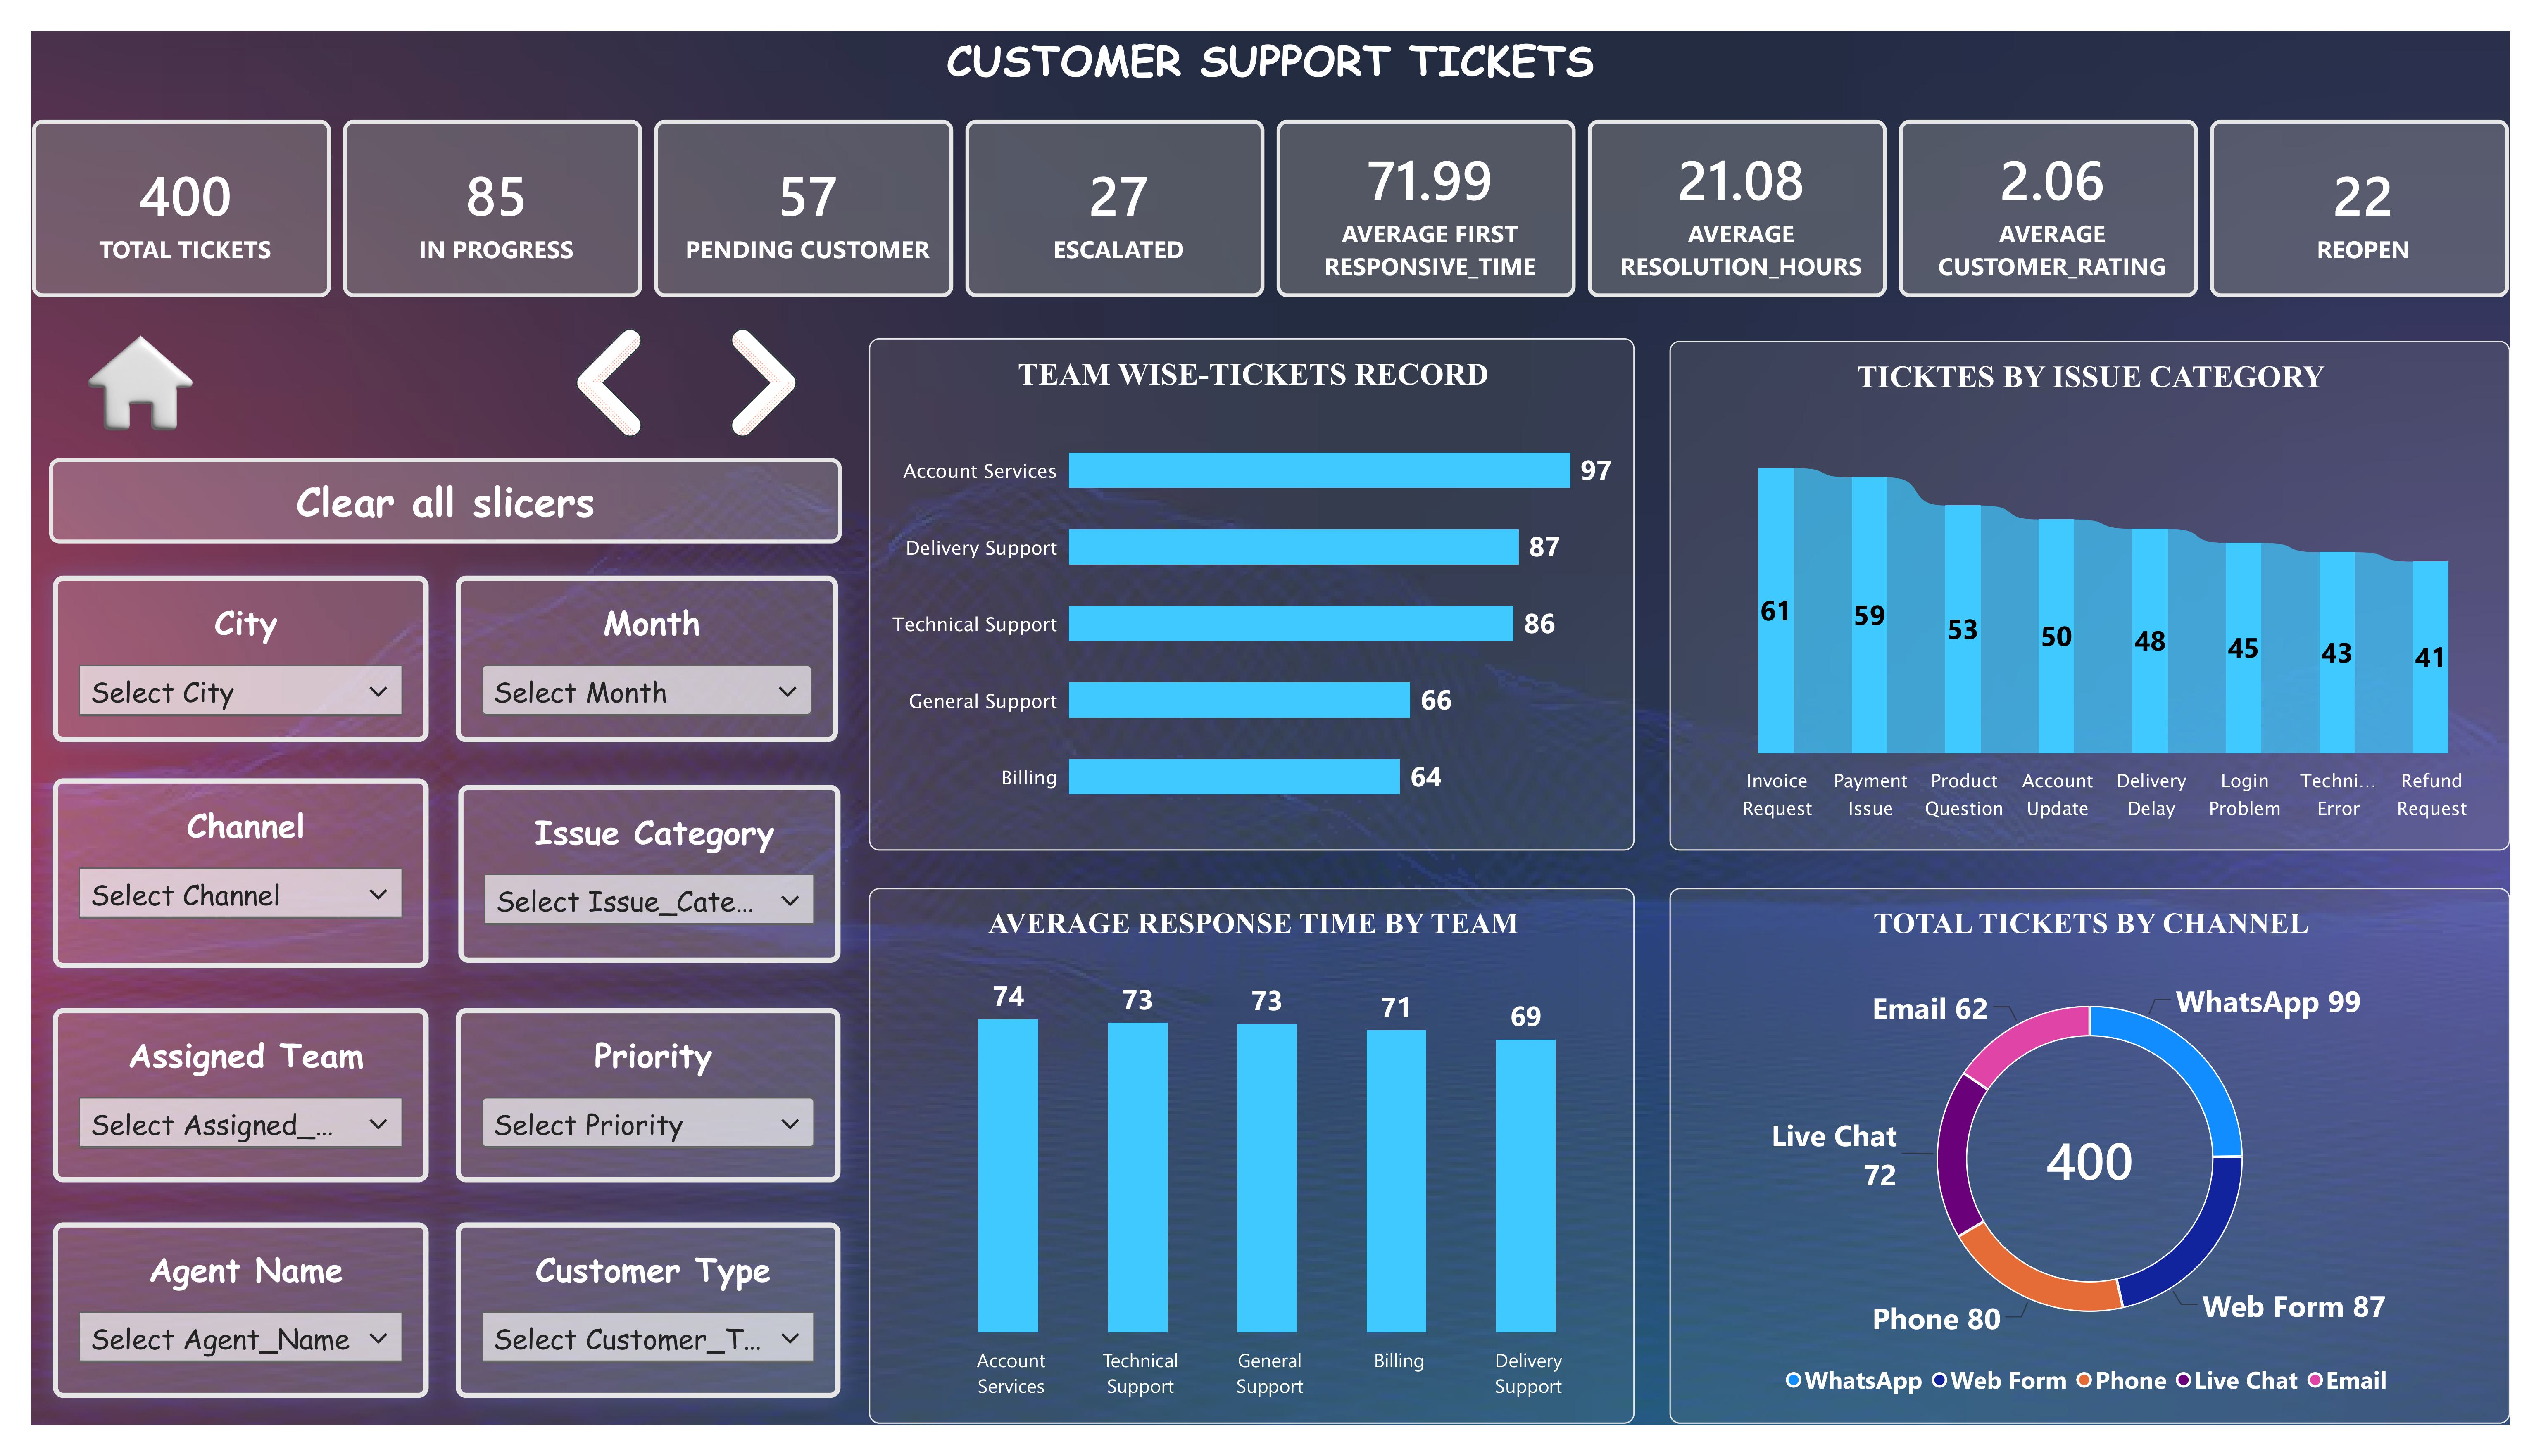

The page's visual inventory and layout, read from the dashboard file:
{"tool":"powerbi","page":{"name":"Page 1","canvas":[1920,1080],"ordinal":0},"visuals":[{"type":"cardVisual","fields":{"Data":["_MEASURE.TOTAL_TICKETS","_MEASURE.IN_PROGRESS","_MEASURE.PENDING_CUSTOMER","_MEASURE.ESCALATED","_MEASURE.AVERAGE_RESOLUTION","_MEASURE.AVERAGE_RESOLUTION_HOURS","_MEASURE.AVERAGE_CUSTOMER_RATING","_MEASURE.RESPONSED"]},"box":[0,67.9,1920.4,140],"z":0},{"type":"clusteredBarChart","title":"TEAM WISE-TICKETS RECORD","fields":{"Category":["Customer_Support_Tickets.Assigned_Team"],"Y":["_MEASURE.TOTAL_TICKETS"]},"box":[649.1,237.7,593.3,396.9],"z":1000},{"type":"ribbonChart","title":"TICKTES BY ISSUE CATEGORY","fields":{"Category":["Customer_Support_Tickets.Issue_Category"],"Y":["_MEASURE.TOTAL_TICKETS"]},"box":[1269.3,239.8,650.4,395.2],"z":2000},{"type":"clusteredColumnChart","title":"AVERAGE RESPONSE TIME BY TEAM","fields":{"Category":["Customer_Support_Tickets.Assigned_Team"],"Y":["_MEASURE.AVERAGE_FIRST_RESPONSIVE_TIME"]},"box":[649.1,663.6,593.3,415.5],"z":3000},{"type":"donutChart","title":"TOTAL TICKETS BY CHANNEL","fields":{"Category":["Customer_Support_Tickets.Channel"],"Y":["_MEASURE.TOTAL_TICKETS"]},"box":[1269.3,663.6,650.4,415.8],"z":4000},{"type":"listSlicer","fields":{"Values":["Customer_Support_Tickets.City"]},"box":[16.5,421.7,291.5,128.7],"z":5000,"group":"g1"},{"type":"textbox","box":[0,610,683,150],"z":5000},{"type":"listSlicer","fields":{"Values":["Customer_Support_Tickets.Channel"]},"box":[16.5,578.5,291.5,147.5],"z":6000,"group":"g1"},{"type":"textbox","box":[0,610,683,150],"z":6000},{"type":"textbox","box":[0,0,1920.4,68.2],"z":7000},{"type":"listSlicer","title":"Assigned Team","fields":{"Values":["Customer_Support_Tickets.Assigned_Team"]},"box":[16.5,756.4,291.5,135.8],"z":7000,"group":"g1"},{"type":"actionButton","box":[14.4,331.4,613.4,65.9],"z":8000},{"type":"listSlicer","title":"Issue Category","fields":{"Values":["Customer_Support_Tickets.Issue_Category"]},"box":[330.7,583.2,295.6,138.1],"z":8000,"group":"g1"},{"type":"group","id":"g1","title":"Group 1","box":[16.5,421.7,609.8,636.7],"z":9000},{"type":"listSlicer","title":"Month","fields":{"Values":["Customer_Support_Tickets.Created_Date.Variation.Date Hierarchy.Month"]},"box":[328.6,421.7,295.6,128.7],"z":9000,"group":"g1"},{"type":"image","box":[16.5,226.4,137.3,92.6],"z":10000,"group":"g2"},{"type":"listSlicer","title":"Priority","fields":{"Values":["Customer_Support_Tickets.Priority"]},"box":[328.6,756.4,297.7,135.8],"z":10000,"group":"g1"},{"type":"image","box":[507.7,226.4,120.1,92.6],"z":11000,"group":"g2"},{"type":"listSlicer","title":"Agent Name","fields":{"Values":["Customer_Support_Tickets.Agent_Name"]},"box":[16.5,922.6,291.5,135.8],"z":11000,"group":"g1"},{"type":"textbox","box":[0,760,649,320],"z":12000},{"type":"listSlicer","title":"Customer Type","fields":{"Values":["Customer_Support_Tickets.Customer_Type"]},"box":[328.6,922.6,297.7,135.8],"z":12000,"group":"g1"},{"type":"image","box":[387.6,226.4,120.1,92.6],"z":13000,"group":"g2"},{"type":"group","id":"g2","title":"Group 2","box":[16.5,226.4,611.3,92.6],"z":13001}]}

Visuals, with their boxes on the page's 1920x1080 design canvas (x1, y1, x2, y2). These are canvas units, not pixel positions in the 2541x1456 screenshot, which may show the page scaled, cropped or inside an application window:
cardVisual - _MEASURE.TOTAL_TICKETS x _MEASURE.IN_PROGRESS: 0,68,1920,208
"TEAM WISE-TICKETS RECORD" clusteredBarChart: 649,238,1242,635
"TICKTES BY ISSUE CATEGORY" ribbonChart: 1269,240,1920,635
"AVERAGE RESPONSE TIME BY TEAM" clusteredColumnChart: 649,664,1242,1079
"TOTAL TICKETS BY CHANNEL" donutChart: 1269,664,1920,1079
listSlicer - Customer_Support_Tickets.City: 16,422,308,550
textbox: 0,610,683,760
listSlicer - Customer_Support_Tickets.Channel: 16,578,308,726
textbox: 0,610,683,760
textbox: 0,0,1920,68
"Assigned Team" listSlicer: 16,756,308,892
actionButton: 14,331,628,397
"Issue Category" listSlicer: 331,583,626,721
"Group 1" group: 16,422,626,1058
"Month" listSlicer: 329,422,624,550
image: 16,226,154,319
"Priority" listSlicer: 329,756,626,892
image: 508,226,628,319
"Agent Name" listSlicer: 16,923,308,1058
textbox: 0,760,649,1080
"Customer Type" listSlicer: 329,923,626,1058
image: 388,226,508,319
"Group 2" group: 16,226,628,319
